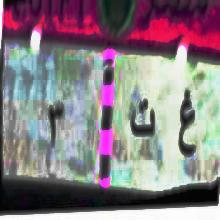3: (43, 98, 73, 155)
ghayn: (173, 83, 199, 159)
taa: (130, 97, 156, 146)
